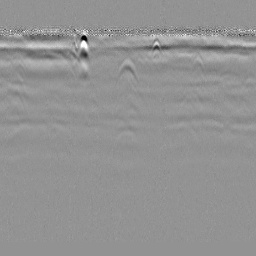cavity: (115, 56, 140, 84)
